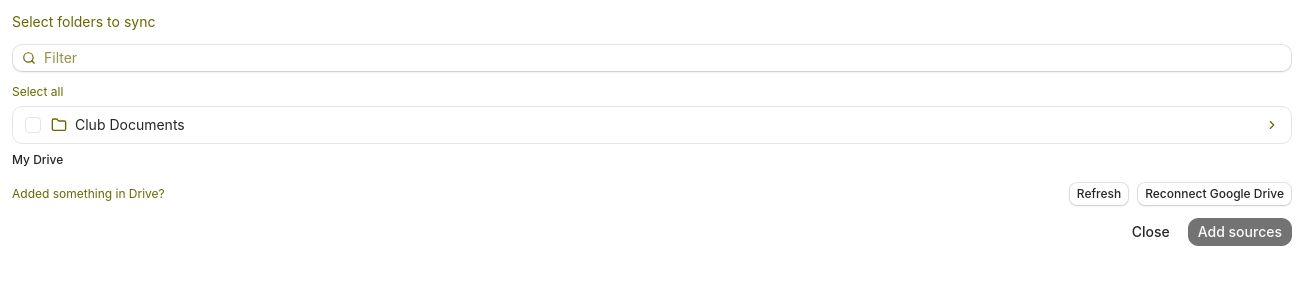
Test: DrivePicker — reconnecting › reconnects without any warning and reloads the listing
The image size is (1304, 299).
Expected: the text "Club Documents" is shown, [75,115,185,135]
Click the button "Reconnect Google Drive" at (1215, 194), box [1137,182,1292,206]
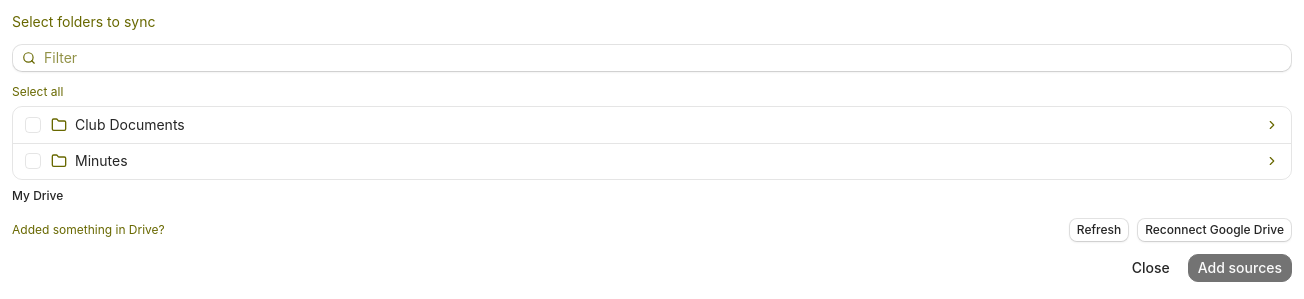
Result: the text "Minutes" is shown at [75,151,128,171]
